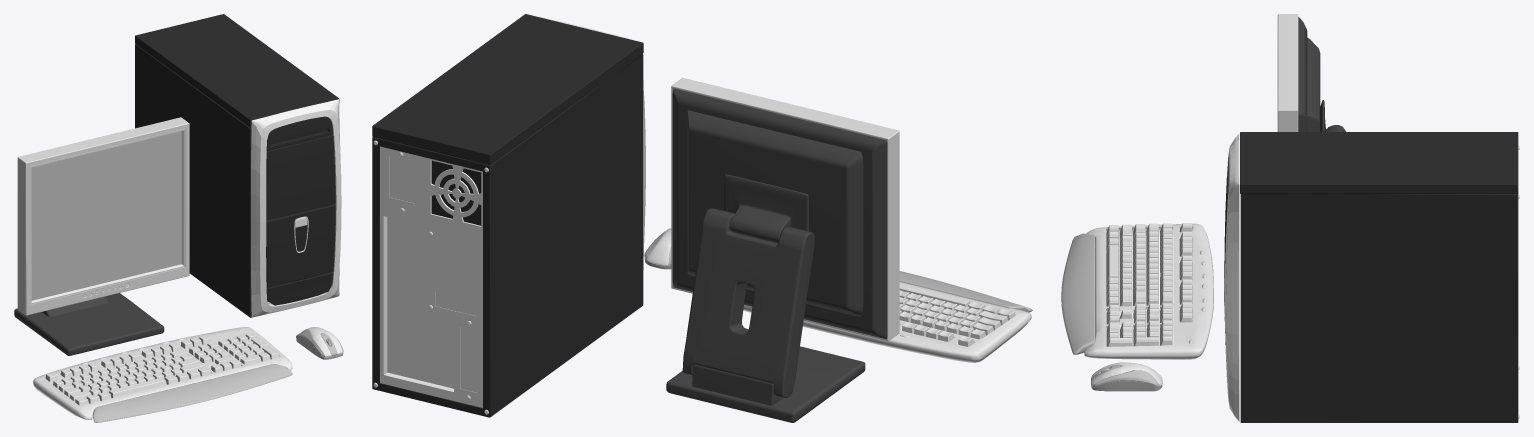
Rendered from Computer.fbx.
3 renders of one model, left to right at view 1: azimuth 30°, elevation 25°; view 2: azimuth 150°, elevation 25°; view 3: azimuth 270°, elevation 25°, orthographic. The views are drawn at different scales.
Visible parts, largest first — view 1: obj_010; view 2: obj_010; view 3: obj_010.
Part boxes in pixels (<box>): obj_010: <box>14,14,343,422</box>; obj_010: <box>372,14,1032,422</box>; obj_010: <box>1061,14,1519,422</box>.
Size of the model in its own units: 28.4 by 16.73 by 28.86.
4 materials, 4 textured.
